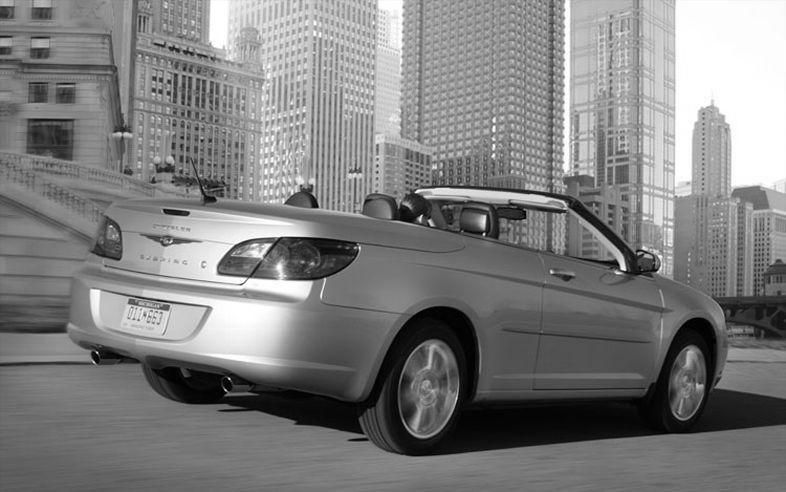car: (59, 155, 734, 459)
